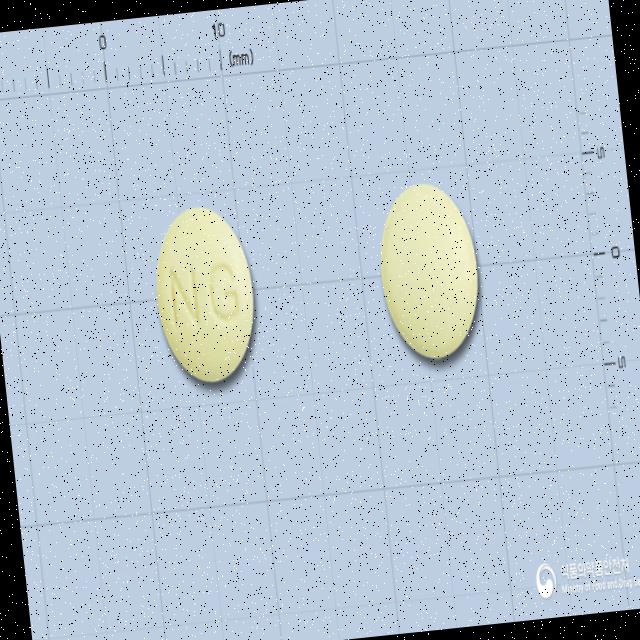Nevolaxin Tablet: (147, 202, 263, 390), (373, 176, 488, 364)
